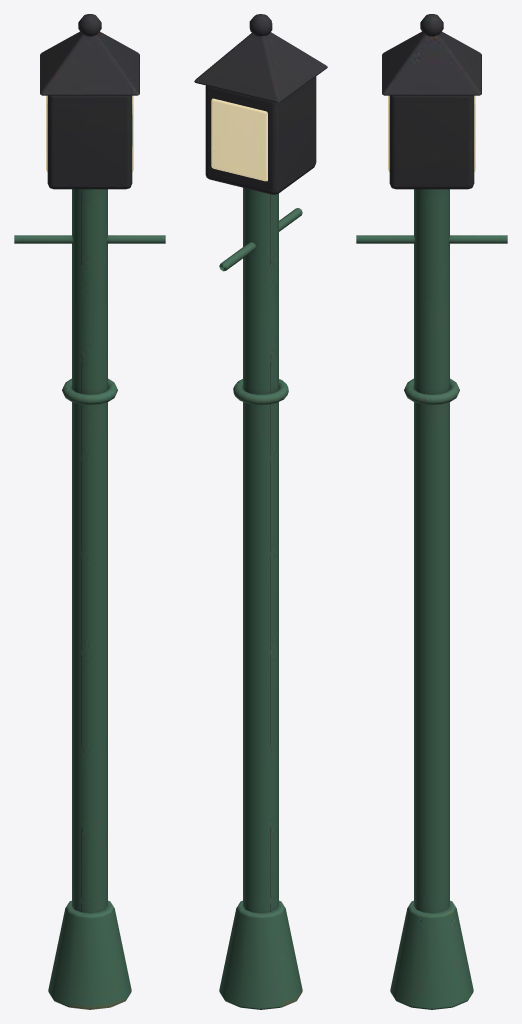
The model's file is station_lamp.glb.
The picture shows the model from 3 angles, left to right: view 1: azimuth 90°, elevation 25°; view 2: azimuth 150°, elevation 25°; view 3: azimuth 270°, elevation 25°; orthographic projection.
Parts seen in each view (by area): view 1: StationLamp; view 2: StationLamp; view 3: StationLamp.
Boxes of the visible parts, x1,y1,x2,y2 form: StationLamp: (14, 14, 165, 1009); StationLamp: (194, 14, 327, 1009); StationLamp: (356, 14, 507, 1009).
Size of the model in its own units: 0.3296 by 3.57 by 0.5.
3 materials, 3 textured.
